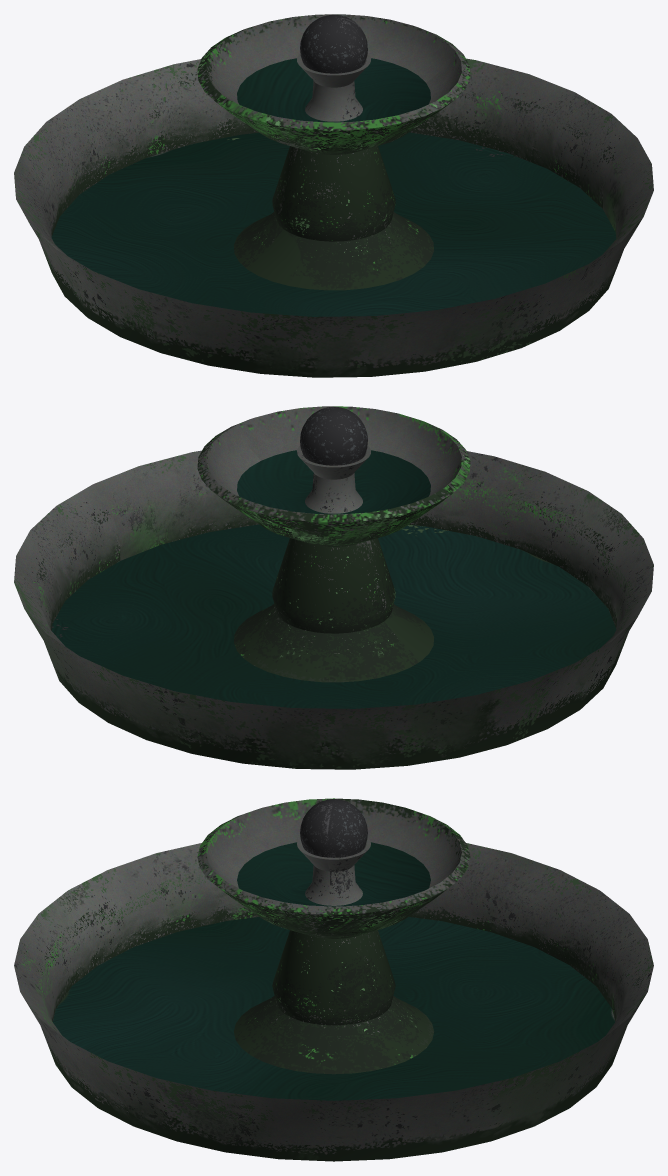
File: fountain4.fbx
3 renders of one model, top to bottom at view 1: azimuth 30°, elevation 25°; view 2: azimuth 150°, elevation 25°; view 3: azimuth 270°, elevation 25°, orthographic.
Visible parts, largest first — view 1: Cylinder; view 2: Cylinder; view 3: Cylinder.
Part boxes in pixels (x1,y1,x2,y2): Cylinder: (14,14,653,377); Cylinder: (14,406,653,769); Cylinder: (14,798,653,1161).
Bounding box in the file's own units: 420 × 173 × 420.
